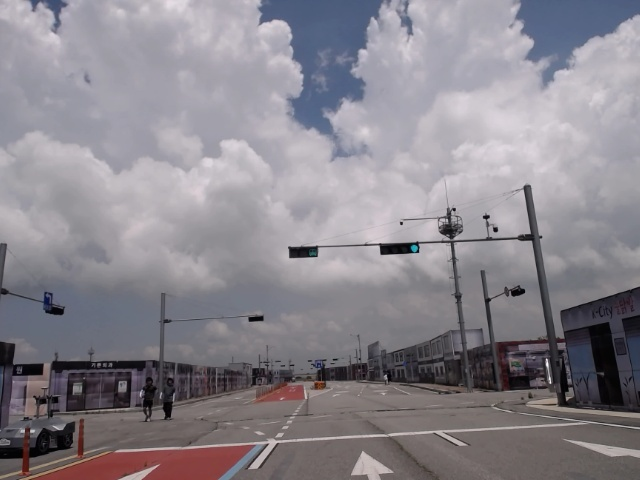straight_green_4: (381, 245, 419, 253)
